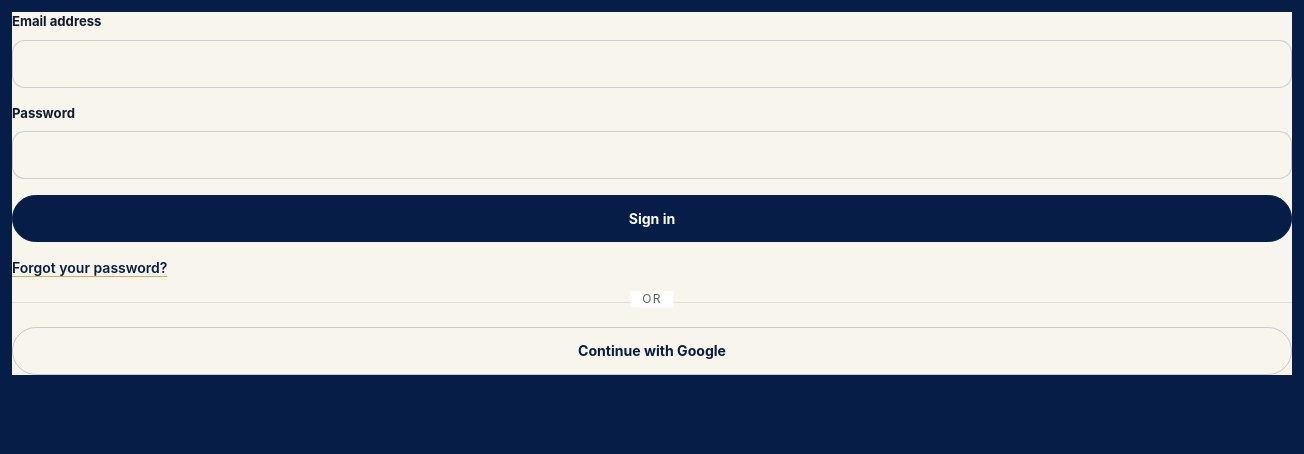
Test: SignInPanel › exchanges the Google popup ID token through the BFF
Click the button "Continue with Google" at (652, 351), box [12,328,1292,375]
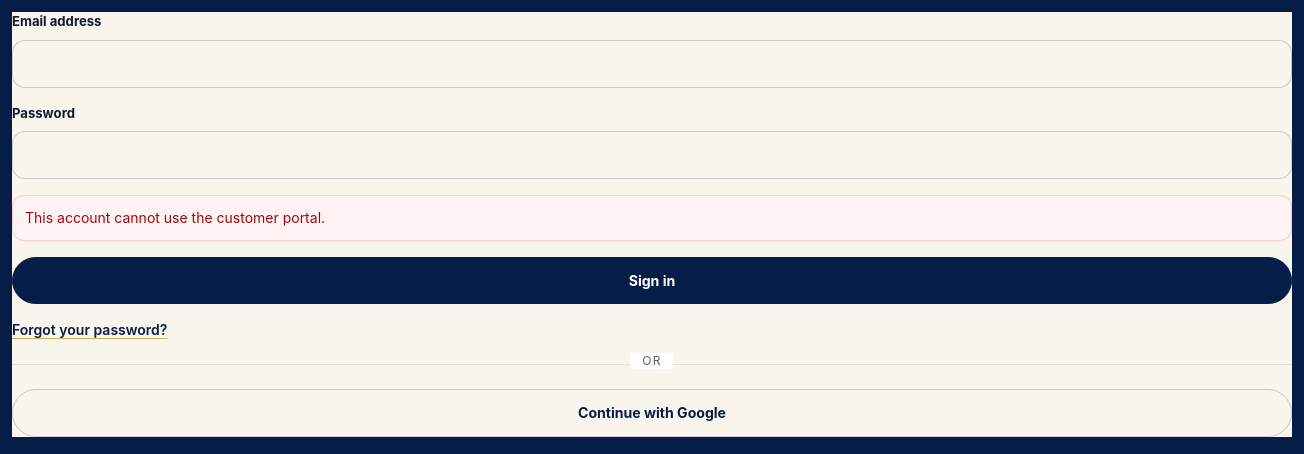
Check: the message reads "This account cannot use the customer portal.", box [25,209,325,226]
